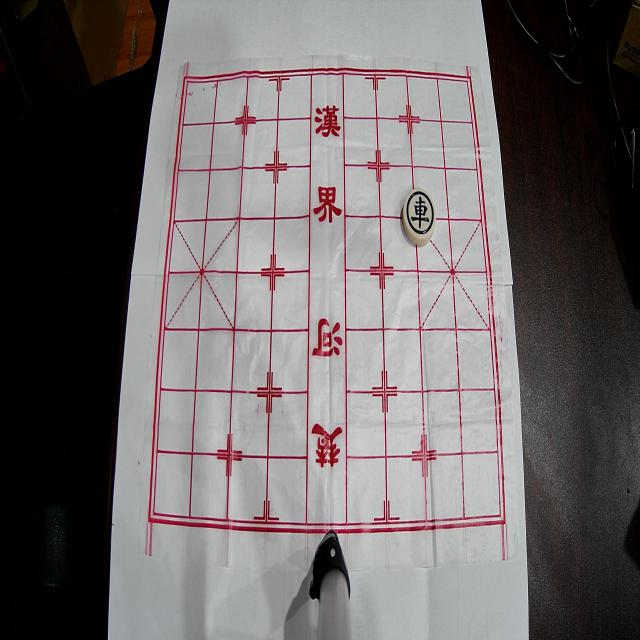black-chariot: (402, 188, 436, 245)
